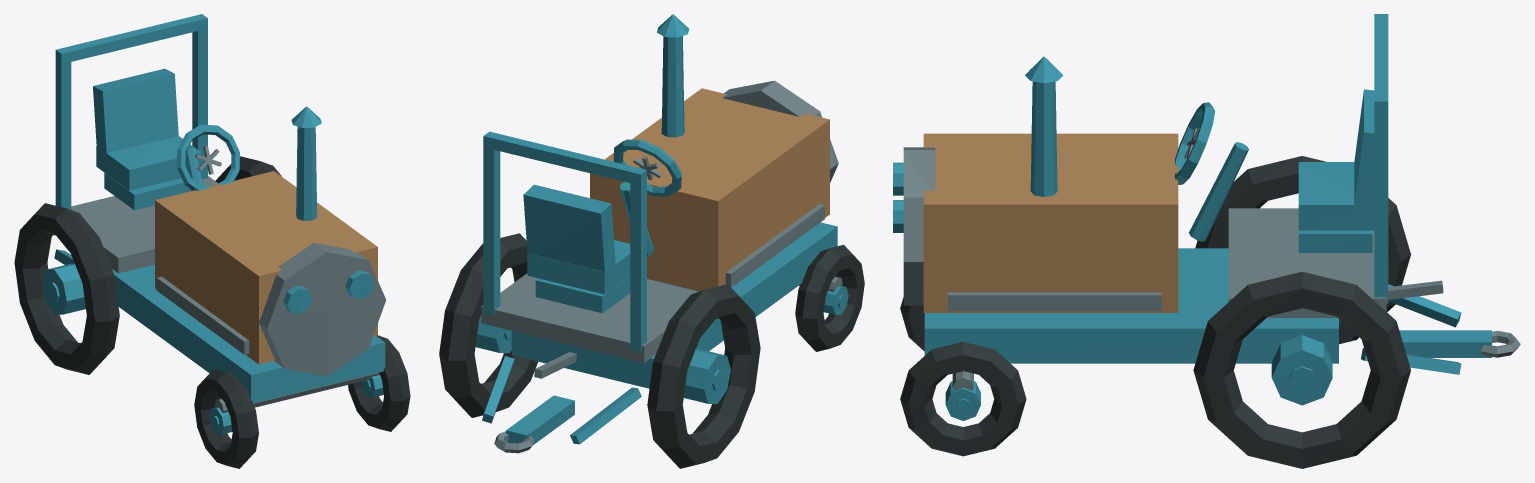
The model's file is tractor.source.glb.
3 views of the same model, side by side, from view 1: azimuth 30°, elevation 25°; view 2: azimuth 150°, elevation 25°; view 3: azimuth 270°, elevation 25° (orthographic). The views are drawn at different scales.
Visible parts, largest first — view 1: tractor-long-engine-hood-mesh, tractor-tapered-front-grille-mesh, tractor-rear-left-wheel-tire-mesh, tractor-main-chassis-mesh, tractor-operator-seat-back-mesh, tractor-front-left-wheel-tire-mesh, tractor-operator-floor-mesh, tractor-operator-seat-mesh, tractor-front-right-wheel-tire-mesh, tractor-roll-bar-upright--0.55-mesh, tractor-roll-bar-top-mesh, tractor-roll-bar-upright-0.55-mesh (+12 smaller); view 2: tractor-long-engine-hood-mesh, tractor-rear-left-wheel-tire-mesh, tractor-operator-floor-mesh, tractor-main-chassis-mesh, tractor-rear-right-wheel-tire-mesh, tractor-operator-seat-back-mesh, tractor-front-left-wheel-tire-mesh, tractor-roll-bar-upright-0.55-mesh, tractor-roll-bar-upright--0.55-mesh, tractor-roll-bar-top-mesh, tractor-operator-seat-mesh, tractor-slim-exhaust-stack-mesh (+13 smaller); view 3: tractor-long-engine-hood-mesh, tractor-rear-right-wheel-tire-mesh, tractor-main-chassis-mesh, tractor-front-right-wheel-tire-mesh, tractor-operator-floor-mesh, tractor-rear-left-wheel-tire-mesh, tractor-operator-seat-mesh, tractor-engine-side-rail-mesh, tractor-tapered-front-grille-mesh, tractor-rear-right-wheel-hub-mesh, tractor-slim-exhaust-stack-mesh, tractor-roll-bar-upright-0.55-mesh (+12 smaller).
Boxes of the visible parts, x1=… form: tractor-long-engine-hood-mesh: x1=155, y1=171, x2=377, y2=364; tractor-tapered-front-grille-mesh: x1=259, y1=242, x2=386, y2=376; tractor-rear-left-wheel-tire-mesh: x1=14, y1=203, x2=119, y2=374; tractor-main-chassis-mesh: x1=112, y1=264, x2=385, y2=403; tractor-operator-seat-back-mesh: x1=93, y1=68, x2=178, y2=160; tractor-front-left-wheel-tire-mesh: x1=194, y1=369, x2=258, y2=468; tractor-operator-floor-mesh: x1=71, y1=176, x2=218, y2=273; tractor-operator-seat-mesh: x1=96, y1=136, x2=201, y2=190; tractor-front-right-wheel-tire-mesh: x1=348, y1=335, x2=410, y2=431; tractor-roll-bar-upright--0.55-mesh: x1=55, y1=55, x2=71, y2=209; tractor-roll-bar-top-mesh: x1=55, y1=14, x2=207, y2=63; tractor-roll-bar-upright-0.55-mesh: x1=192, y1=23, x2=207, y2=179; tractor-long-engine-hood-mesh: x1=590, y1=88, x2=829, y2=291; tractor-rear-left-wheel-tire-mesh: x1=647, y1=284, x2=760, y2=468; tractor-operator-floor-mesh: x1=481, y1=273, x2=697, y2=362; tractor-main-chassis-mesh: x1=511, y1=222, x2=837, y2=388; tractor-rear-right-wheel-tire-mesh: x1=439, y1=233, x2=537, y2=417; tractor-operator-seat-back-mesh: x1=523, y1=184, x2=615, y2=281; tractor-front-left-wheel-tire-mesh: x1=795, y1=244, x2=864, y2=351; tractor-roll-bar-upright-0.55-mesh: x1=483, y1=141, x2=500, y2=315; tractor-roll-bar-upright--0.55-mesh: x1=630, y1=176, x2=646, y2=351; tractor-roll-bar-top-mesh: x1=483, y1=131, x2=646, y2=185; tractor-operator-seat-mesh: x1=527, y1=240, x2=630, y2=294; tractor-slim-exhaust-stack-mesh: x1=661, y1=36, x2=684, y2=137; tractor-long-engine-hood-mesh: x1=923, y1=133, x2=1178, y2=312; tractor-rear-right-wheel-tire-mesh: x1=1193, y1=271, x2=1410, y2=468; tractor-main-chassis-mesh: x1=924, y1=248, x2=1338, y2=363; tractor-front-right-wheel-tire-mesh: x1=900, y1=342, x2=1026, y2=456; tractor-operator-floor-mesh: x1=1228, y1=208, x2=1386, y2=317; tractor-rear-left-wheel-tire-mesh: x1=1195, y1=156, x2=1410, y2=344; tractor-operator-seat-mesh: x1=1298, y1=162, x2=1374, y2=230; tractor-engine-side-rail-mesh: x1=947, y1=292, x2=1161, y2=311; tractor-tapered-front-grille-mesh: x1=903, y1=147, x2=935, y2=305; tractor-rear-right-wheel-hub-mesh: x1=1271, y1=335, x2=1332, y2=405; tractor-slim-exhaust-stack-mesh: x1=1030, y1=81, x2=1057, y2=196; tractor-roll-bar-upright-0.55-mesh: x1=1374, y1=108, x2=1388, y2=303.
Bounding box in the file's own units: 1.8 × 2.37 × 3.58.
